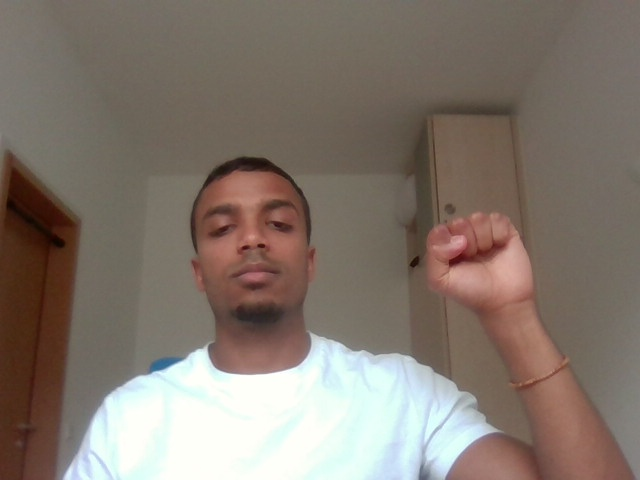neutral: (405, 204, 561, 341)
